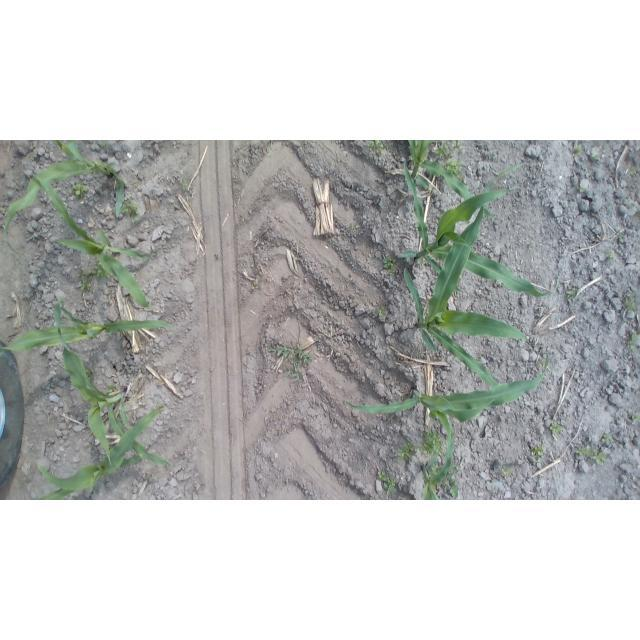Maize: (399, 204, 530, 396), (399, 160, 564, 304), (31, 169, 157, 312), (59, 338, 174, 472), (2, 141, 131, 260), (339, 371, 553, 438), (29, 407, 169, 500), (1, 300, 178, 356), (402, 141, 499, 216), (421, 402, 468, 500)
Weeds: (266, 339, 312, 382), (418, 429, 444, 458), (376, 469, 401, 495), (395, 439, 417, 461), (381, 254, 400, 279), (119, 199, 141, 220), (77, 269, 94, 293), (443, 474, 460, 498), (68, 182, 91, 199), (444, 159, 465, 176), (529, 444, 545, 465), (565, 283, 581, 304), (623, 291, 638, 313), (590, 450, 608, 467), (93, 259, 108, 279), (367, 140, 388, 153), (548, 420, 564, 437), (433, 144, 452, 157), (626, 331, 639, 350), (601, 432, 616, 446), (181, 180, 195, 195), (576, 444, 591, 458), (346, 221, 359, 237), (535, 359, 548, 375), (614, 230, 627, 242), (628, 411, 639, 425), (606, 250, 616, 265), (377, 305, 388, 317), (99, 140, 112, 150), (576, 184, 587, 195), (416, 256, 426, 268), (500, 467, 513, 476), (107, 384, 117, 394), (630, 165, 639, 176), (251, 282, 262, 291), (573, 144, 584, 153), (592, 154, 601, 162)
